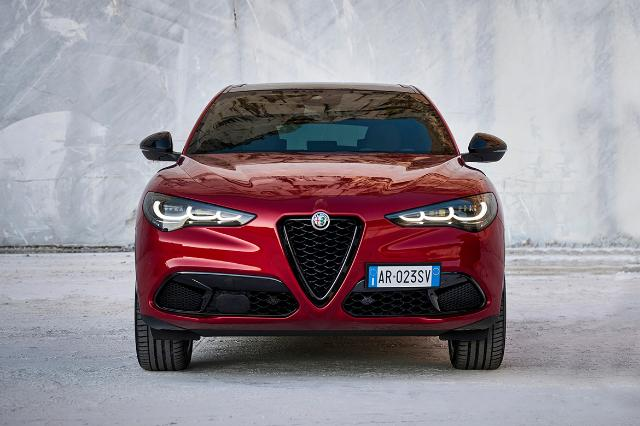alpha-romeo: (134, 81, 508, 373)
